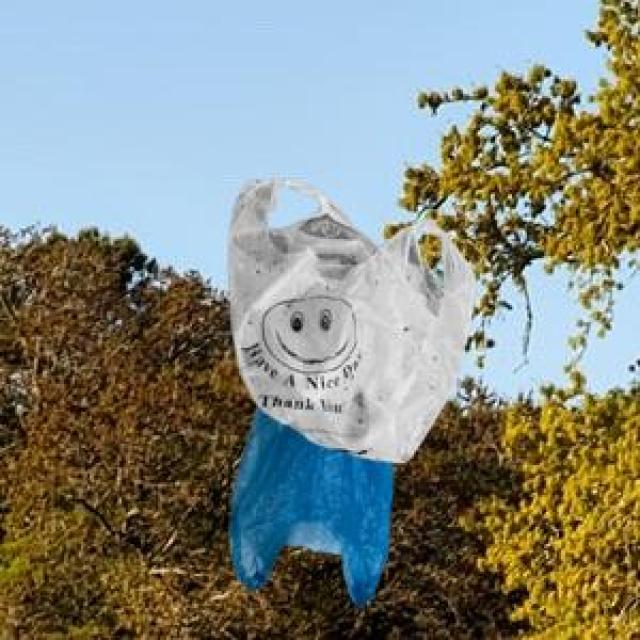plastic: (191, 162, 496, 611)
